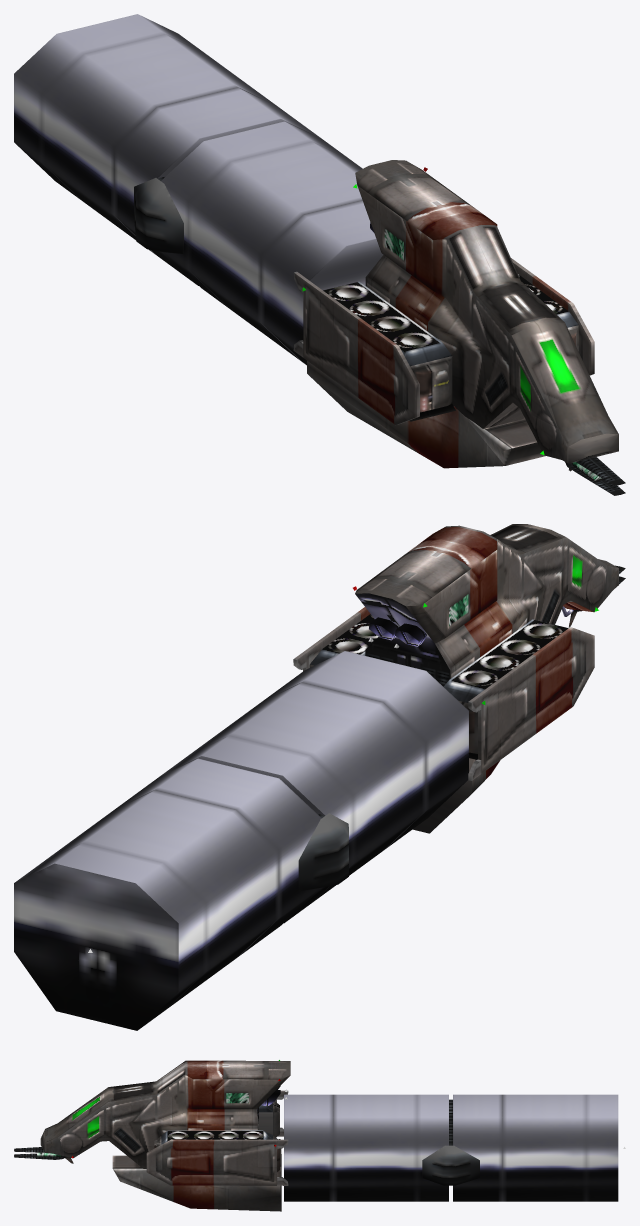
The model's file is utl102.obj.
3 views of the same model, one above another, from view 1: azimuth 30°, elevation 25°; view 2: azimuth 150°, elevation 25°; view 3: azimuth 270°, elevation 25° (orthographic). The views are drawn at different scales.
Parts seen in each view (by area): view 1: frm-extru4_1, frm-extru29_3, frm-extru29_2, frm-extru30, frm-extru18, frm-extru1_2, frm-extru34, frm-extru26, frm-sphere1, frm-extru1_1; view 2: frm-extru29_3, frm-extru29_2, frm-extru4_1, frm-extru30, frm-extru1_2, frm-extru34, frm-extru1_1, frm-extru18, frm-extru26; view 3: frm-extru29_3, frm-extru29_2, frm-extru4_1, frm-extru26, frm-extru18, frm-extru34, frm-extru1_1, frm-extru1_2, frm-sphere1.
Part boxes in pixels (bbox=[...]): frm-extru4_1: bbox=[355, 160, 618, 463]; frm-extru29_3: bbox=[14, 14, 321, 285]; frm-extru29_2: bbox=[161, 121, 383, 365]; frm-extru30: bbox=[303, 278, 419, 425]; frm-extru18: bbox=[307, 361, 545, 468]; frm-extru1_2: bbox=[323, 281, 455, 421]; frm-extru34: bbox=[134, 138, 323, 253]; frm-extru26: bbox=[511, 258, 594, 375]; frm-sphere1: bbox=[565, 457, 625, 495]; frm-extru1_1: bbox=[518, 274, 578, 351]; frm-extru29_3: bbox=[14, 758, 321, 1030]; frm-extru29_2: bbox=[161, 651, 468, 923]; frm-extru4_1: bbox=[355, 524, 618, 686]; frm-extru30: bbox=[478, 627, 594, 773]; frm-extru1_2: bbox=[443, 619, 568, 759]; frm-extru34: bbox=[158, 775, 348, 891]; frm-extru1_1: bbox=[309, 614, 378, 667]; frm-extru18: bbox=[412, 758, 500, 833]; frm-extru26: bbox=[303, 607, 370, 671]; frm-extru29_3: bbox=[453, 1094, 618, 1201]; frm-extru29_2: bbox=[284, 1094, 448, 1201]; frm-extru4_1: bbox=[40, 1060, 290, 1168]; frm-extru26: bbox=[146, 1139, 276, 1185]; frm-extru18: bbox=[112, 1139, 281, 1211]; frm-extru34: bbox=[422, 1099, 479, 1185]; frm-extru1_1: bbox=[154, 1130, 279, 1171]; frm-extru1_2: bbox=[259, 1101, 279, 1137]; frm-sphere1: bbox=[14, 1147, 66, 1159].
Size of the model in its own units: 2.35 by 2.64 by 10.71.
